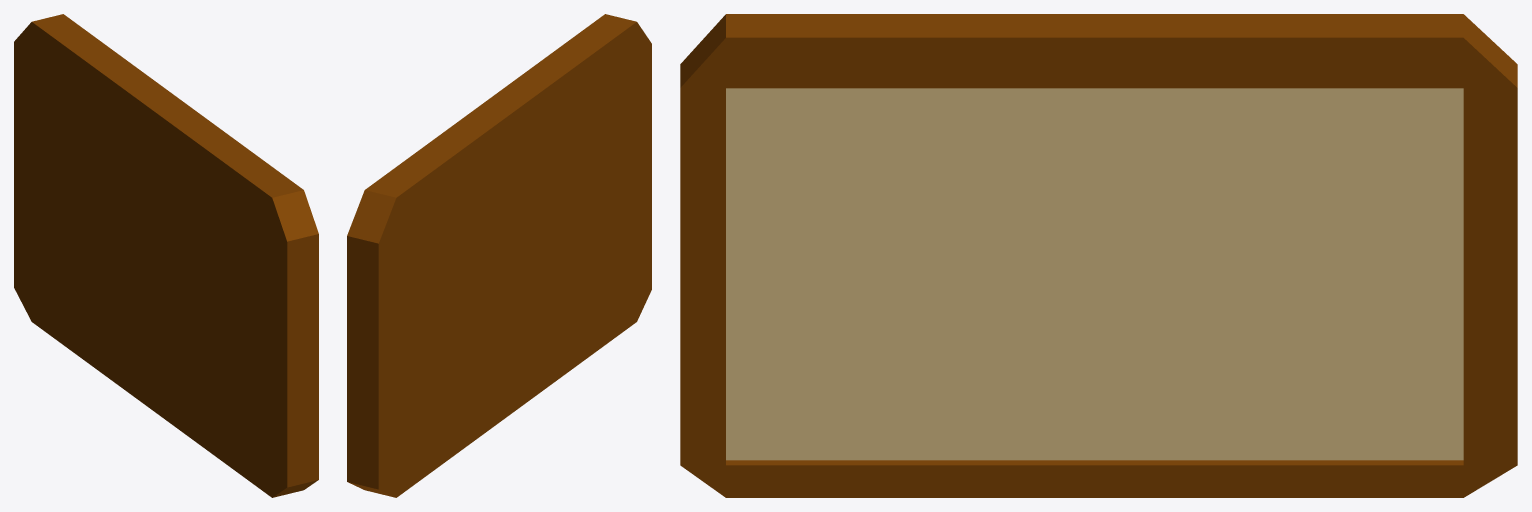
Rendered from Frame.fbx.
3 views of the same model, side by side, from view 1: azimuth 30°, elevation 25°; view 2: azimuth 150°, elevation 25°; view 3: azimuth 270°, elevation 25° (orthographic). The views are drawn at different scales.
Parts seen in each view (by area): view 1: Cube; view 2: Cube; view 3: Cube.
Boxes of the visible parts, x1,y1,x2,y2 form: Cube: (14, 14, 318, 497); Cube: (347, 14, 651, 497); Cube: (680, 14, 1517, 497).
Bounding box in the file's own units: 0.2703 × 2.44 × 4.03.
